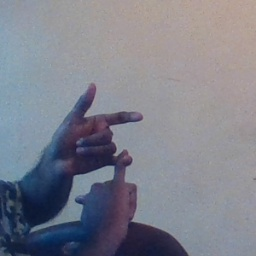S: (33, 78, 155, 225)
